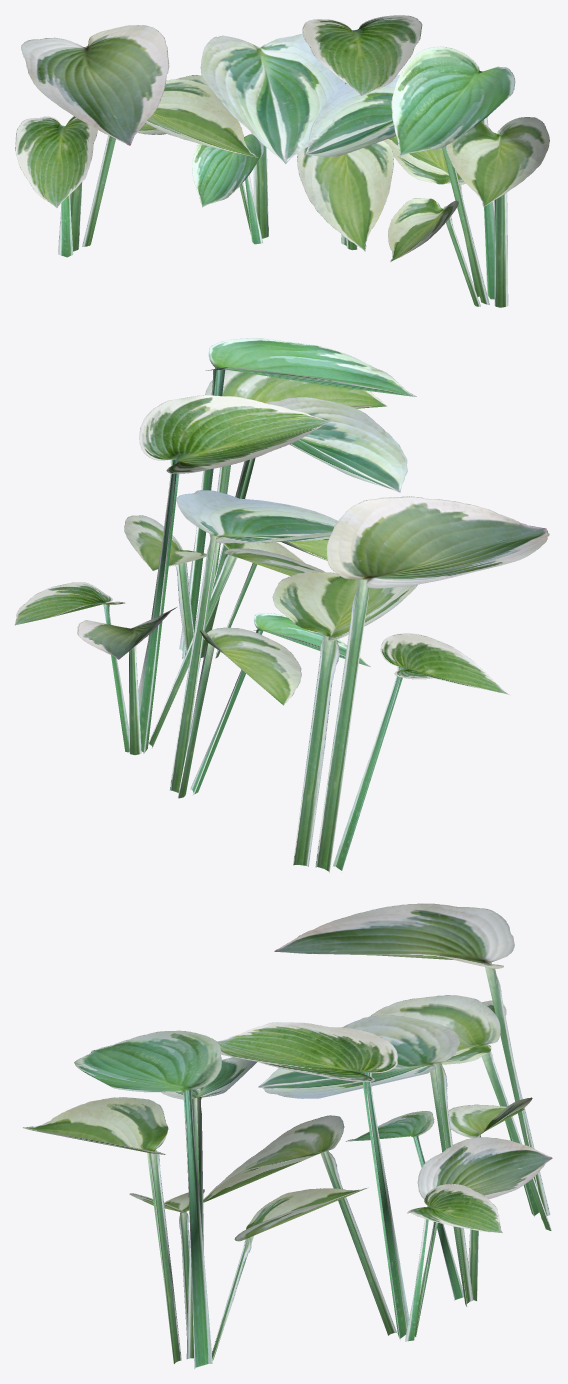
Rendered from plant_small_wg_00_c-corner05.fbx.
The picture shows the model from 3 angles, top to bottom: view 1: azimuth 30°, elevation 25°; view 2: azimuth 150°, elevation 25°; view 3: azimuth 270°, elevation 25°; orthographic projection. The views are drawn at different scales.
Visible parts, largest first — view 1: plant_small_wg_00_c-corner05; view 2: plant_small_wg_00_c-corner05; view 3: plant_small_wg_00_c-corner05.
Part boxes in pixels (x1,y1,x2,y2): plant_small_wg_00_c-corner05: (15,15,549,307); plant_small_wg_00_c-corner05: (14,338,549,872); plant_small_wg_00_c-corner05: (23,903,552,1369).
Size of the model in its own units: 66.32 by 41.9 by 69.87.
Materials: 1 (1 with a texture image).
